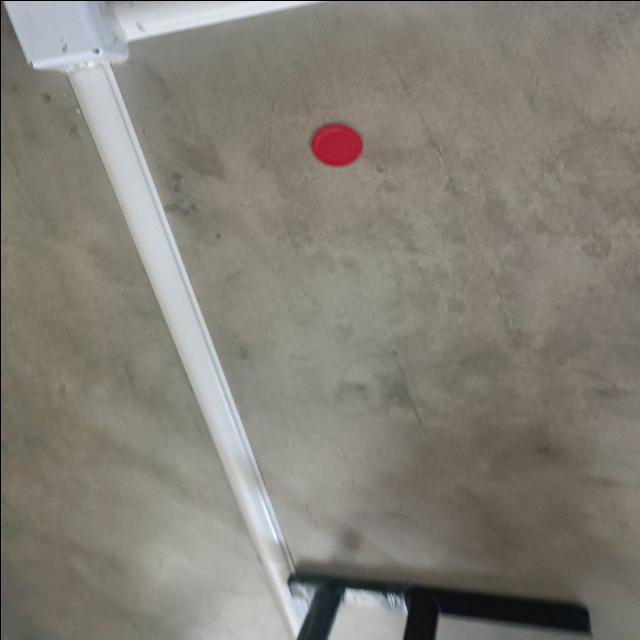chip: (308, 122, 364, 168)
